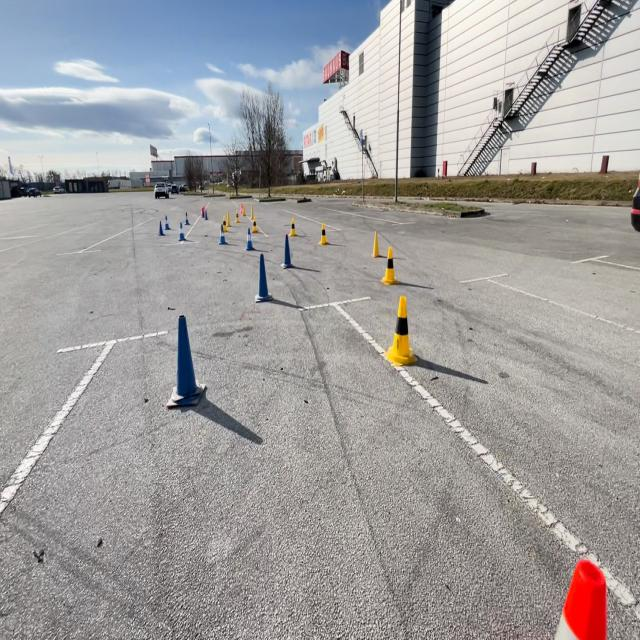blue_cone: (165, 311, 206, 408), (254, 250, 273, 302), (280, 231, 294, 269), (243, 224, 255, 251), (181, 206, 192, 230), (220, 214, 229, 243), (177, 218, 186, 240), (157, 218, 166, 236)
orange_cone: (534, 550, 634, 640), (201, 205, 207, 219), (241, 202, 246, 218)
yellow_cone: (379, 292, 416, 368), (380, 244, 399, 285), (371, 230, 381, 259), (318, 220, 329, 245), (287, 215, 298, 237), (249, 204, 258, 227), (234, 207, 242, 223)
